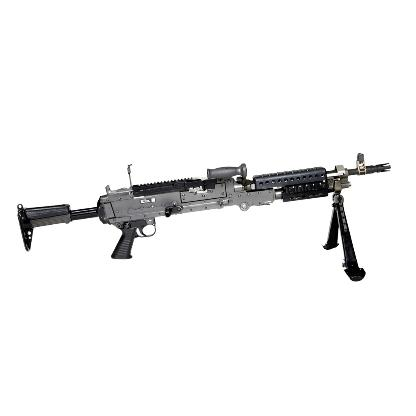gun: (16, 151, 390, 281)
